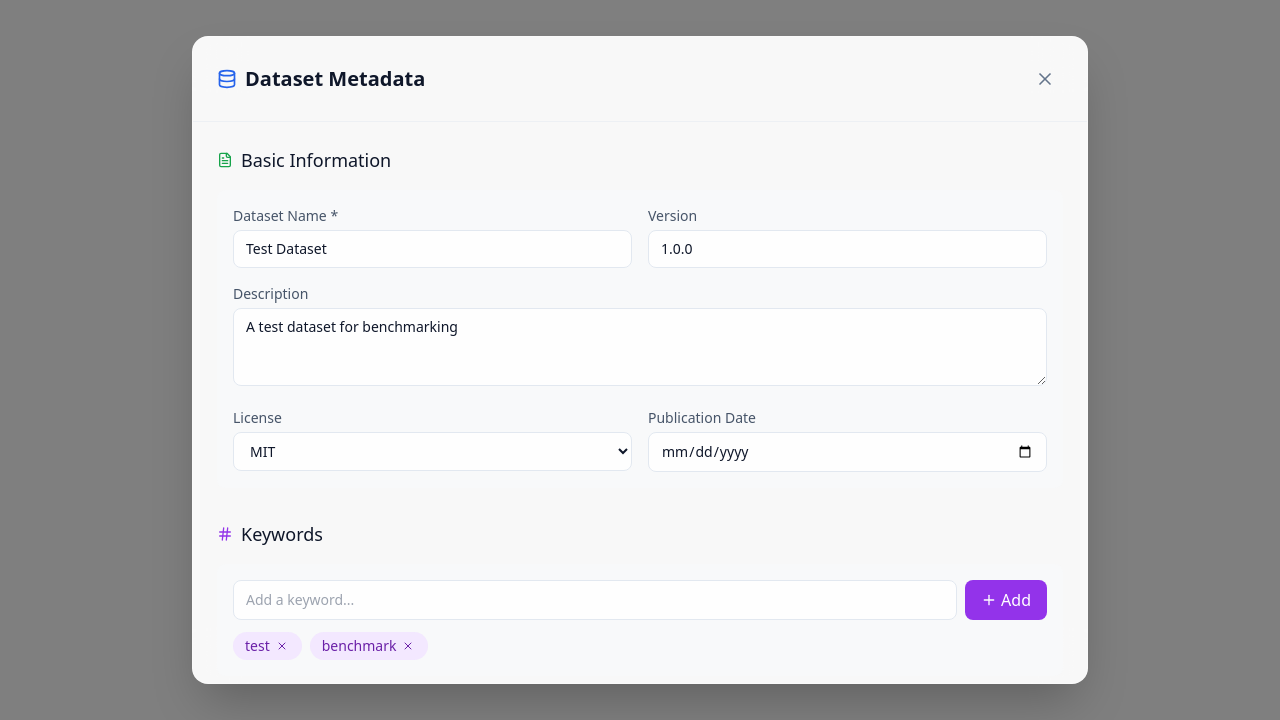
Test: DatasetMetadataEditor › save button is enabled when changes are made
# Make a change
Replace the text in the field showing "Test Dataset" below "Dataset Name *" with "Updated Dataset" at (432, 249), box [233,230,632,268]
(page scrolled)
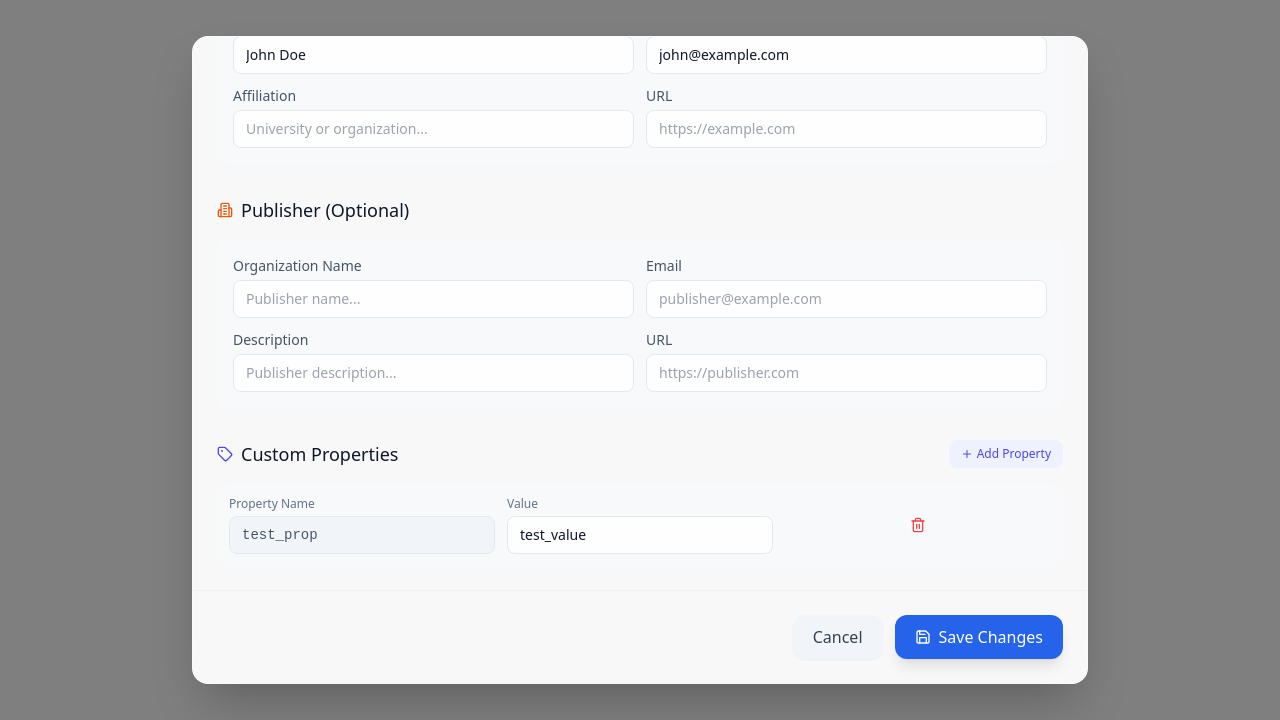
Expected: the button "Save Changes" is enabled, [894,615,1063,659]
